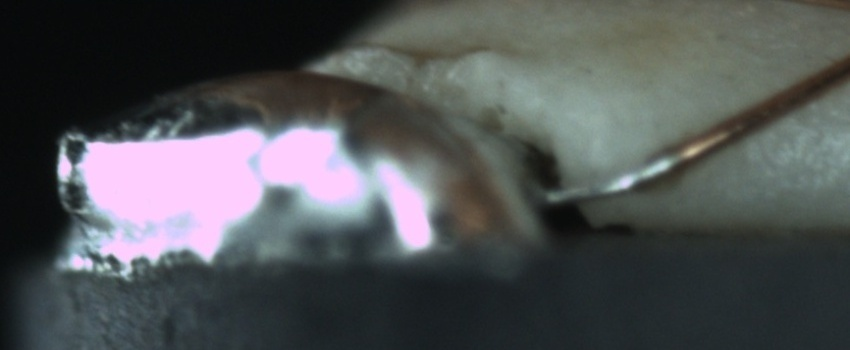TS: (544, 147, 681, 209)
TTCW: (546, 127, 716, 209)
